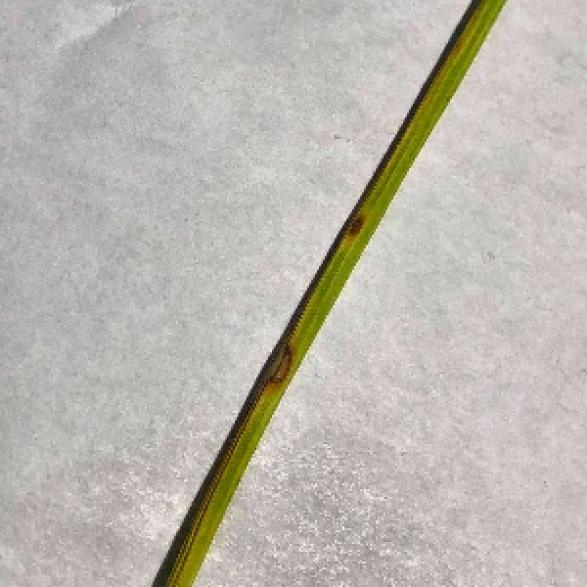Leaf_smut: (249, 315, 311, 391), (325, 174, 381, 249)
